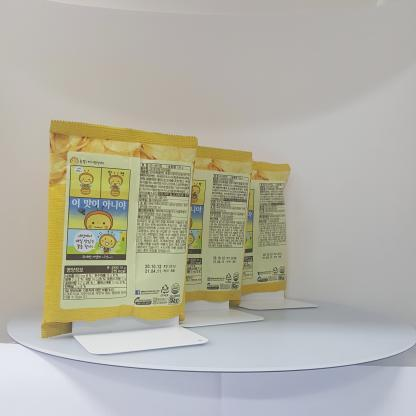Plastic Packaging: (37, 112, 194, 336), (184, 145, 256, 318), (242, 160, 297, 302)
